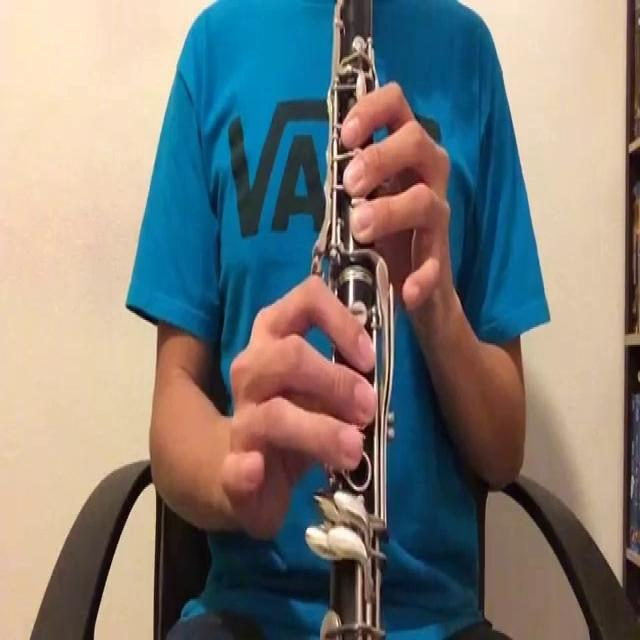Clarinet: (315, 1, 394, 639)
